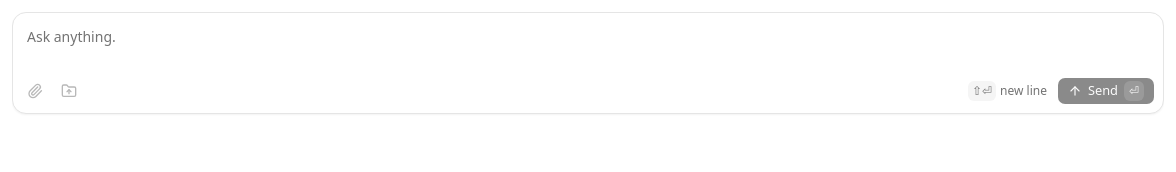
composer lane prompt › asks for a lane when the server says lane_required, keeps the text, then sends in the lane
Type "and also C2" into the text box named "Message".
click(588, 45); type("and also C2")  # box [13,13,1163,77]
Then press Enter
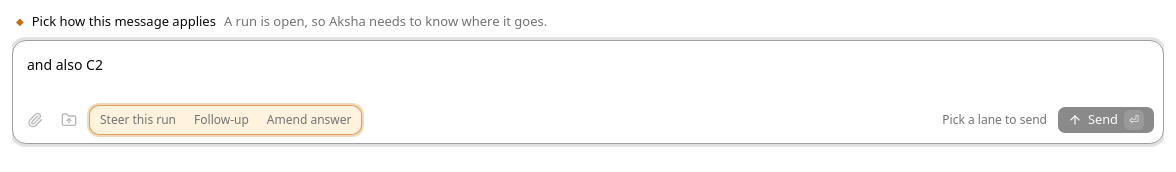
Expected: the button "Send ⏎" is disabled, [1057,106,1155,134]
Expected: the text "Pick how this message applies" is shown, [32,12,216,32]
Click the radio button labelled "Follow-up".
click(221, 120)  # box [186,108,257,132]
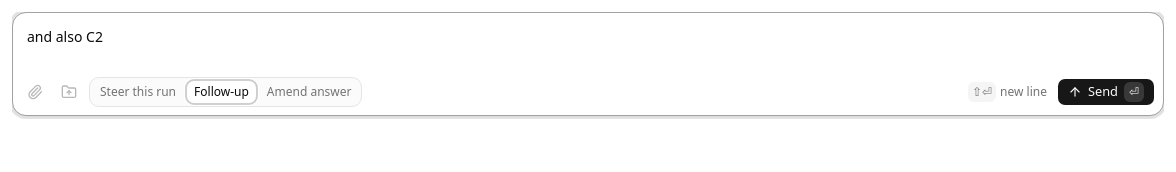
Click the button "Send ⏎".
click(1106, 92)  # box [1057,78,1155,106]
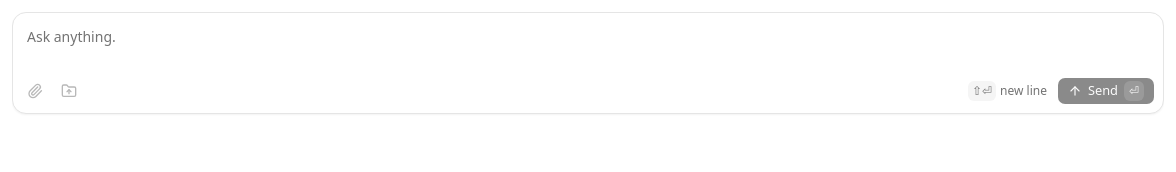
Expected: the text box named "Message" is empty, [13,13,1163,77]
